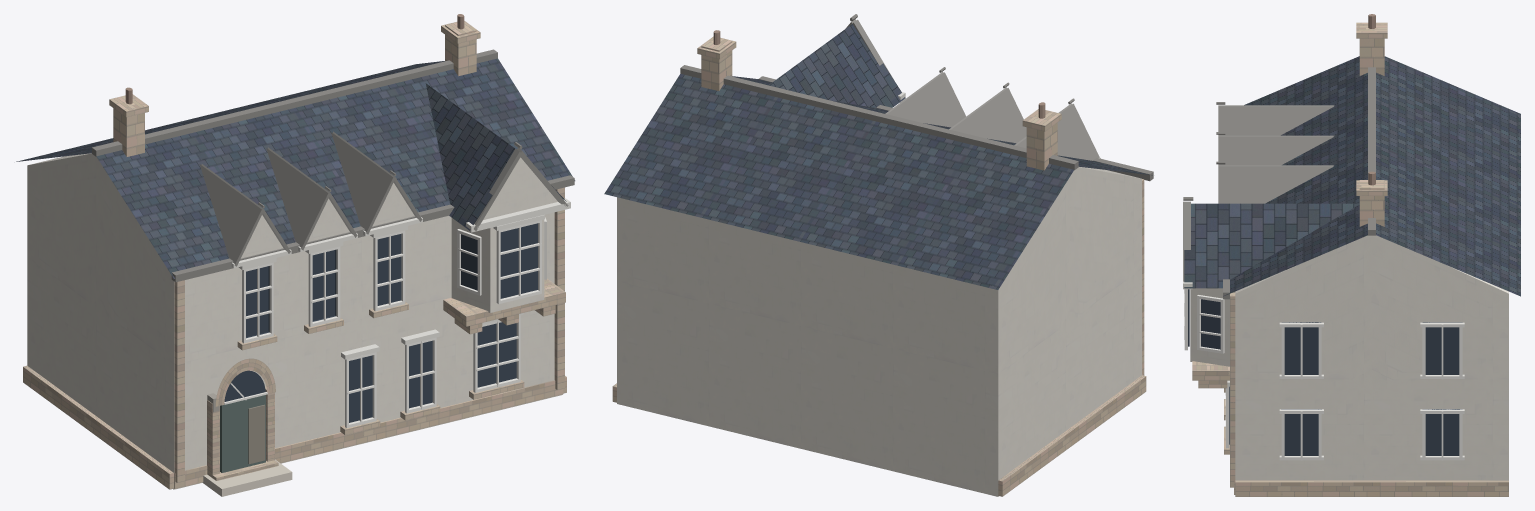
3 renders of one model, left to right at view 1: azimuth 30°, elevation 25°; view 2: azimuth 150°, elevation 25°; view 3: azimuth 270°, elevation 25°, orthographic. The views are drawn at different scales.
Visible parts, largest first — view 1: Main_block_painted_ashlar_walls004, Main_south_slate_slope004, Upper_sash_2_glass008, Bay_gable_left_roof004, Front_base_course004, Upper_sash_2_glass005, Main_roof_ridge_cap004, West_side_base_course004, Upper_gable_2_left_barge005, Upper_gable_2_left_barge009, Upper_gable_2_left_barge007, Arched_door_leaf004 (+20 smaller); view 2: Main_block_painted_ashlar_walls004, Main_north_slate_slope004, Bay_gable_left_roof004, Main_roof_ridge_cap004, West_side_base_course004, Upper_gable_2_left_barge007, Upper_gable_2_left_barge005, Upper_gable_2_left_barge009, East_chimney_stack004, West_chimney_stack004, Main_south_slate_slope004; view 3: Main_block_painted_ashlar_walls004, Main_north_slate_slope004, Main_south_slate_slope004, Bay_gable_left_roof004, Upper_sash_2_glass005, East_side_base_course004, Upper_gable_2_left_barge005, Upper_gable_2_left_barge009, Upper_gable_2_left_barge007, Bay_right_canted_wall004, Front_right_corner_margin004, Main_roof_ridge_cap004 (+5 smaller).
Part boxes in pixels (x1=…): Main_block_painted_ashlar_walls004: x1=27, y1=153, x2=562, y2=489; Main_south_slate_slope004: x1=96, y1=58, x2=575, y2=278; Upper_sash_2_glass008: x1=224, y1=249, x2=516, y2=422; Bay_gable_left_roof004: x1=425, y1=83, x2=566, y2=230; Front_base_course004: x1=174, y1=380, x2=563, y2=488; Upper_sash_2_glass005: x1=377, y1=223, x2=537, y2=305; Main_roof_ridge_cap004: x1=92, y1=49, x2=497, y2=156; West_side_base_course004: x1=23, y1=365, x2=173, y2=489; Upper_gable_2_left_barge005: x1=331, y1=131, x2=417, y2=231; Upper_gable_2_left_barge009: x1=199, y1=164, x2=279, y2=263; Upper_gable_2_left_barge007: x1=266, y1=147, x2=352, y2=246; Arched_door_leaf004: x1=220, y1=395, x2=265, y2=472; Main_block_painted_ashlar_walls004: x1=617, y1=167, x2=1141, y2=496; Main_north_slate_slope004: x1=604, y1=73, x2=1073, y2=289; Bay_gable_left_roof004: x1=768, y1=24, x2=905, y2=107; Main_roof_ridge_cap004: x1=680, y1=65, x2=1078, y2=170; West_side_base_course004: x1=998, y1=375, x2=1146, y2=496; Upper_gable_2_left_barge007: x1=949, y1=88, x2=1026, y2=143; Upper_gable_2_left_barge005: x1=885, y1=72, x2=965, y2=127; Upper_gable_2_left_barge009: x1=1014, y1=103, x2=1095, y2=160; East_chimney_stack004: x1=701, y1=37, x2=732, y2=90; West_chimney_stack004: x1=1026, y1=123, x2=1057, y2=170; Main_south_slate_slope004: x1=732, y1=76, x2=1152, y2=175; Main_block_painted_ashlar_walls004: x1=1235, y1=235, x2=1508, y2=480; Main_north_slate_slope004: x1=1376, y1=56, x2=1520, y2=296; Main_south_slate_slope004: x1=1223, y1=56, x2=1367, y2=296; Bay_gable_left_roof004: x1=1184, y1=203, x2=1359, y2=288; Upper_sash_2_glass005: x1=1188, y1=289, x2=1462, y2=455; East_side_base_course004: x1=1235, y1=480, x2=1508, y2=496; Upper_gable_2_left_barge005: x1=1218, y1=165, x2=1333, y2=203; Upper_gable_2_left_barge009: x1=1218, y1=105, x2=1334, y2=135; Upper_gable_2_left_barge007: x1=1218, y1=135, x2=1334, y2=165; Bay_right_canted_wall004: x1=1190, y1=288, x2=1234, y2=366; Front_right_corner_margin004: x1=1230, y1=292, x2=1235, y2=487; Main_roof_ridge_cap004: x1=1368, y1=67, x2=1375, y2=235.
Size of the model in its own units: 11.42 by 9.2 by 8.89.
Materials: 11 (3 with a texture image).
